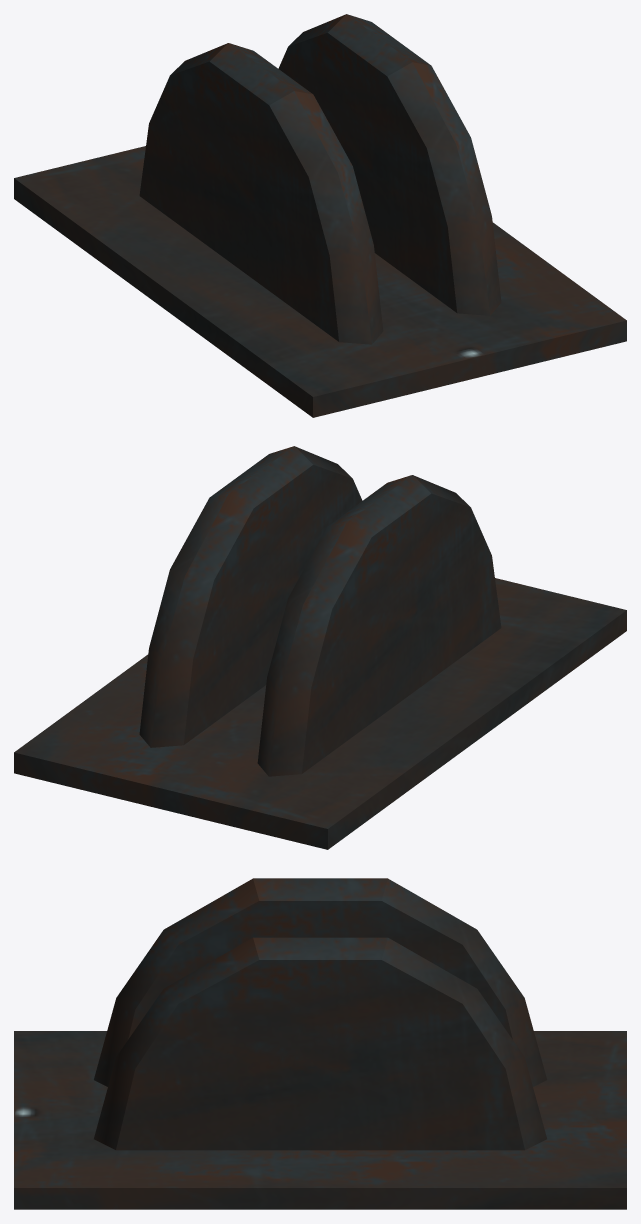
Rendered from leverMechanism 1.fbx.
The picture shows the model from 3 angles, top to bottom: view 1: azimuth 30°, elevation 25°; view 2: azimuth 150°, elevation 25°; view 3: azimuth 270°, elevation 25°; orthographic projection. The views are drawn at different scales.
Visible parts, largest first — view 1: leverHolder2; view 2: leverHolder2; view 3: leverHolder2.
Part boxes in pixels (x1,y1,x2,y2): leverHolder2: (14, 14, 626, 417); leverHolder2: (14, 446, 626, 849); leverHolder2: (14, 878, 626, 1209).
Size of the model in its own units: 0.2445 by 0.162 by 0.4036.
